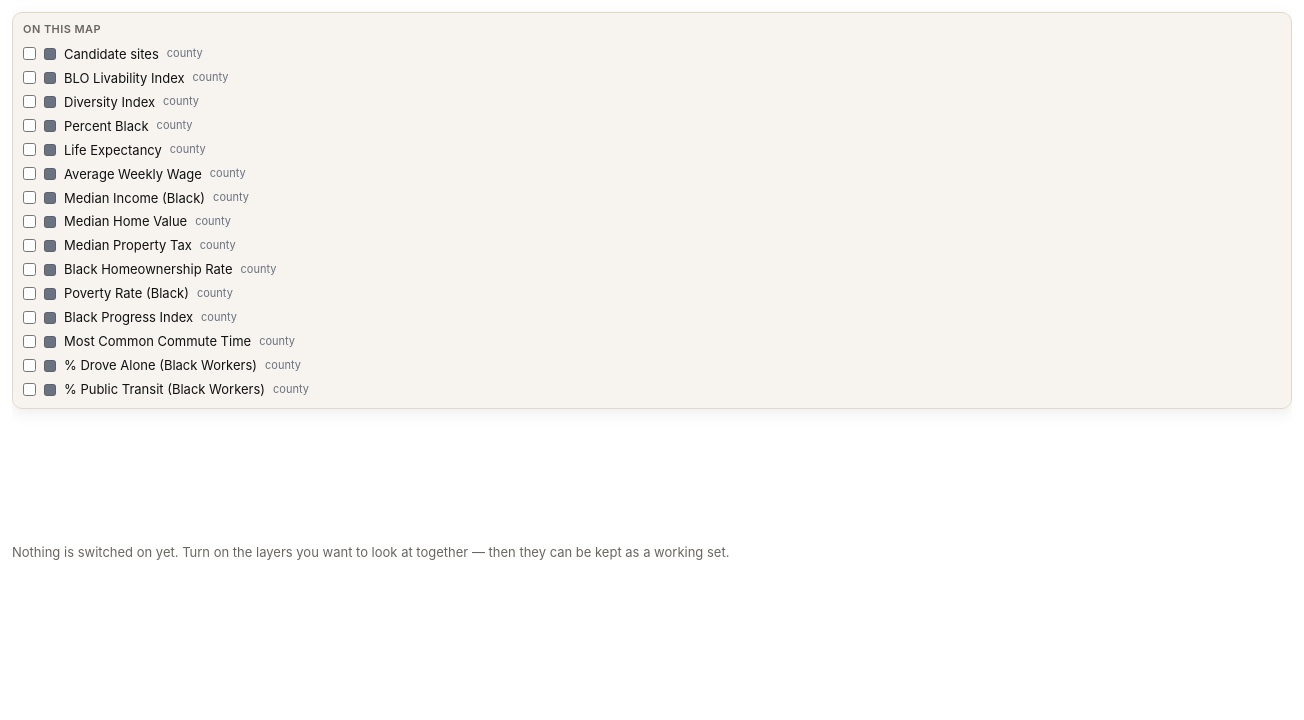
Test: exploring every layer › keeps the selection when the set cannot be made
The width and height of the screenshot is (1304, 720).
Click the checkbox labelled "Candidate sites county" at (30, 54), box [23,48,36,60]
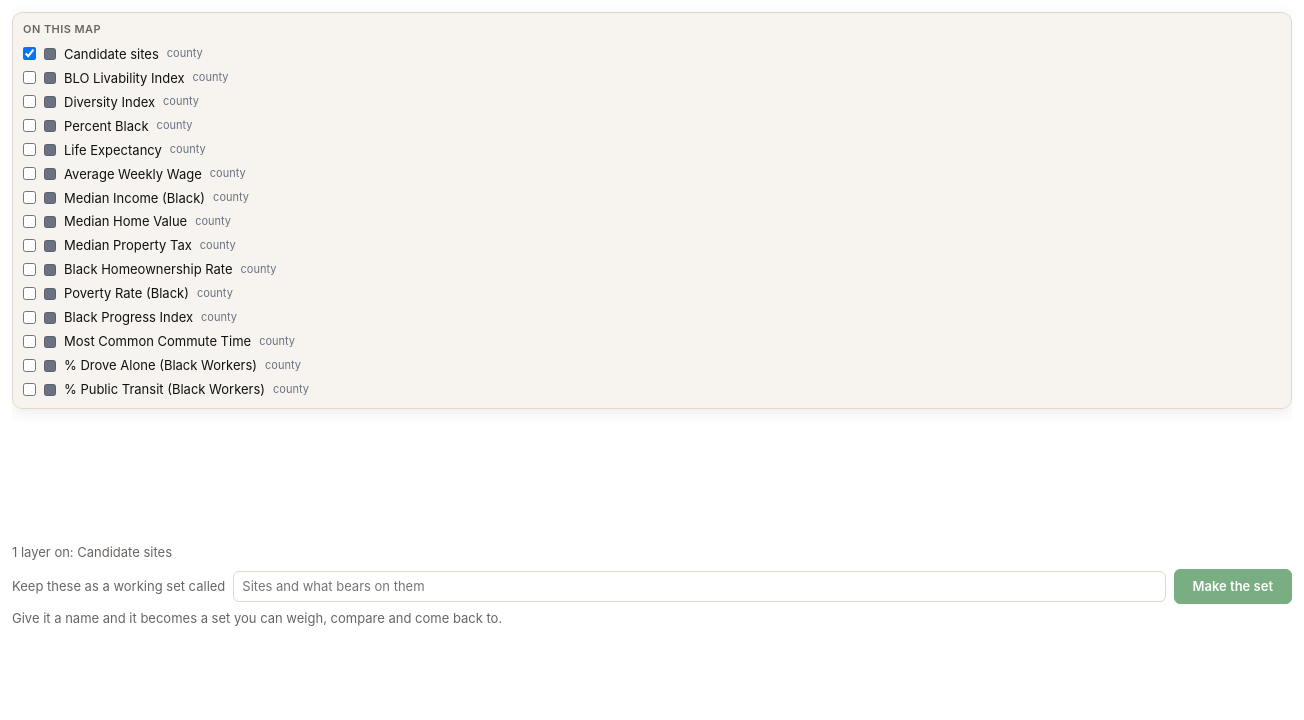
Type "Taken" into the field with test id "explore-name" at (699, 586), box [233,571,1166,602]
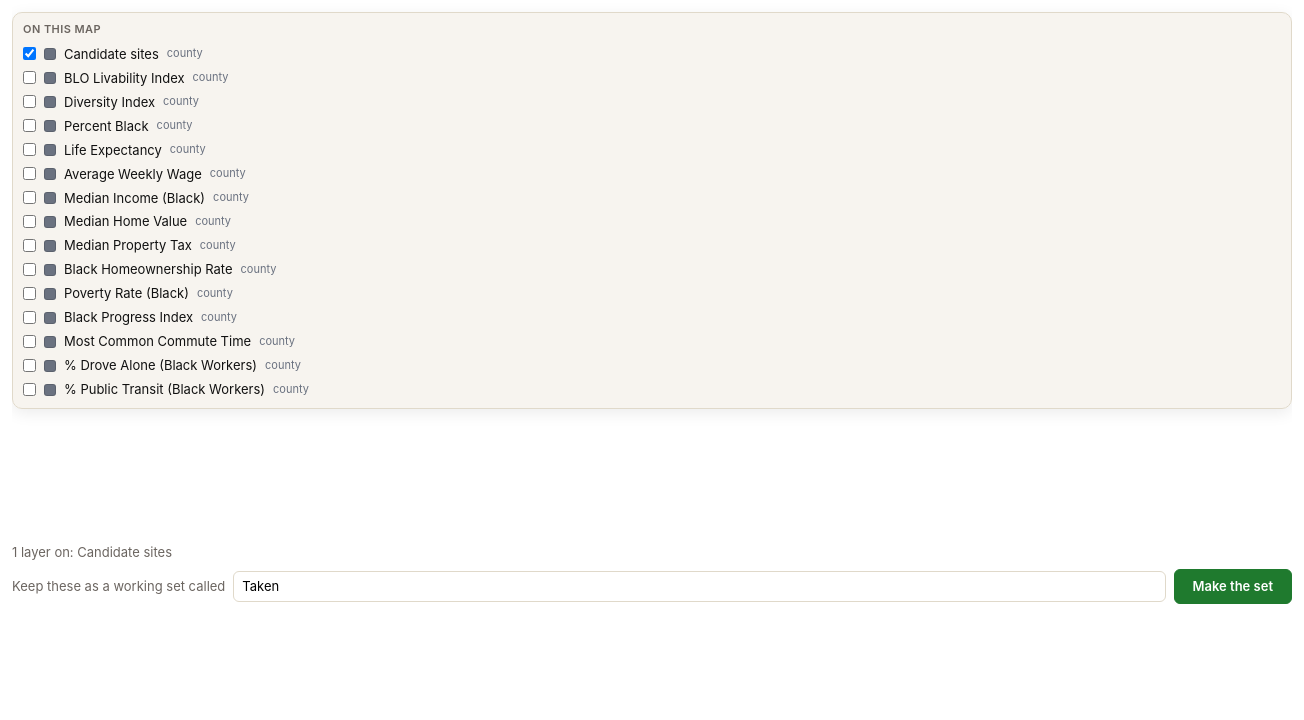
Submit the form with test id "explore-save", box [12,542,1292,604]
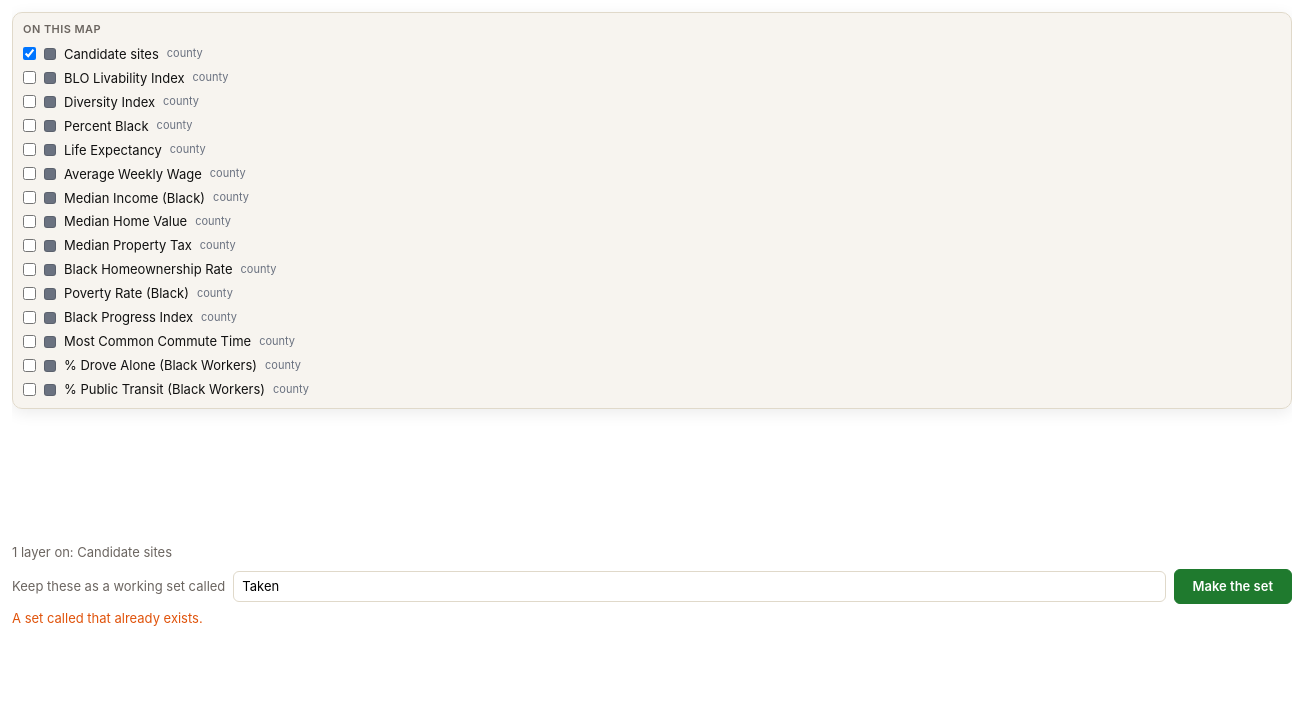
Result: the text with test id "explore-chosen" shows "Candidate sites" at [12,544,172,560]
Result: the text with test id "explore-error" shows "already exists" at [12,610,203,626]
